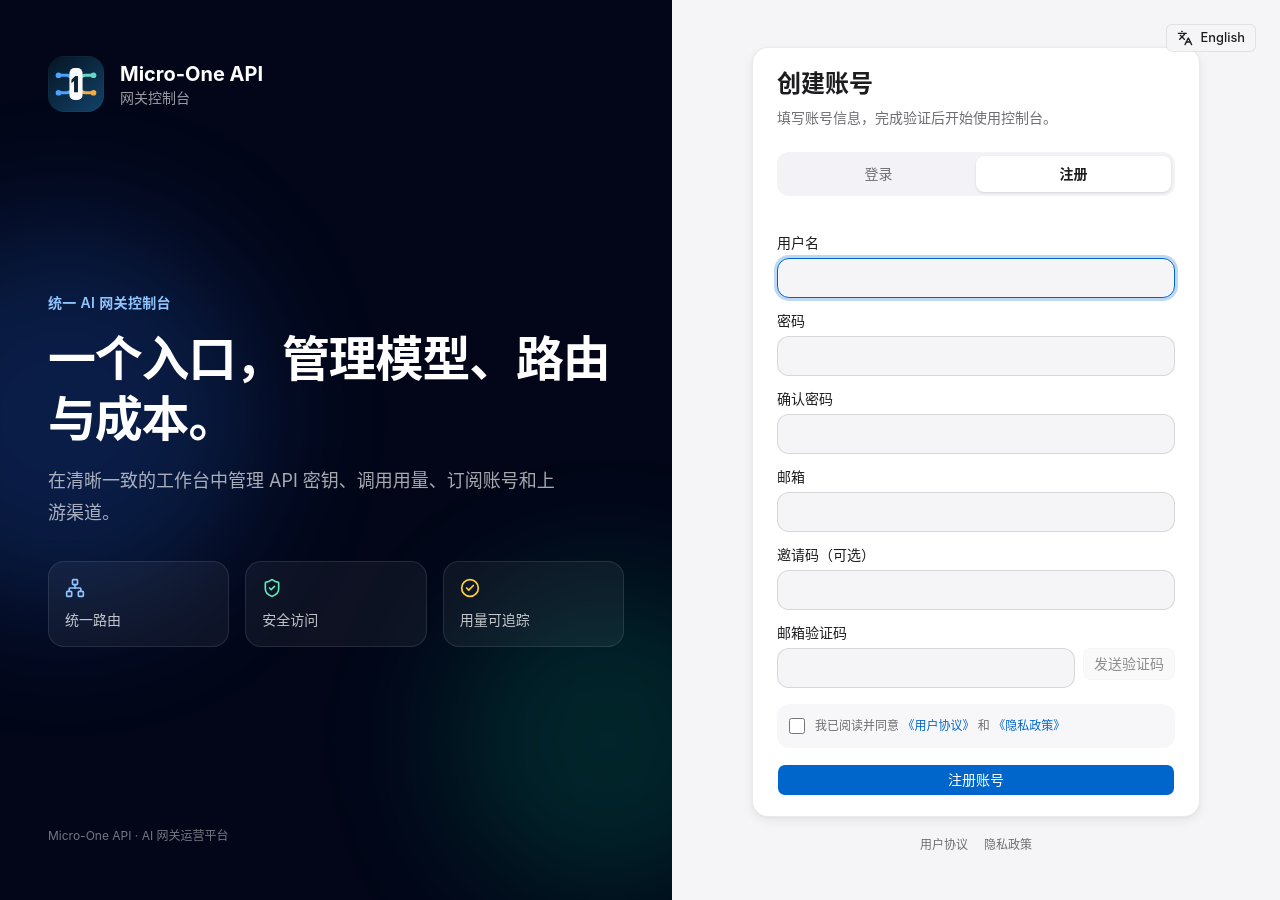
Scenario: LoginPage › does not claim delivery succeeded after an email failure
Type "alice@example.com" into the field labelled "邮箱".
click(976, 512); type("alice@example.com")  # box [777,492,1175,532]
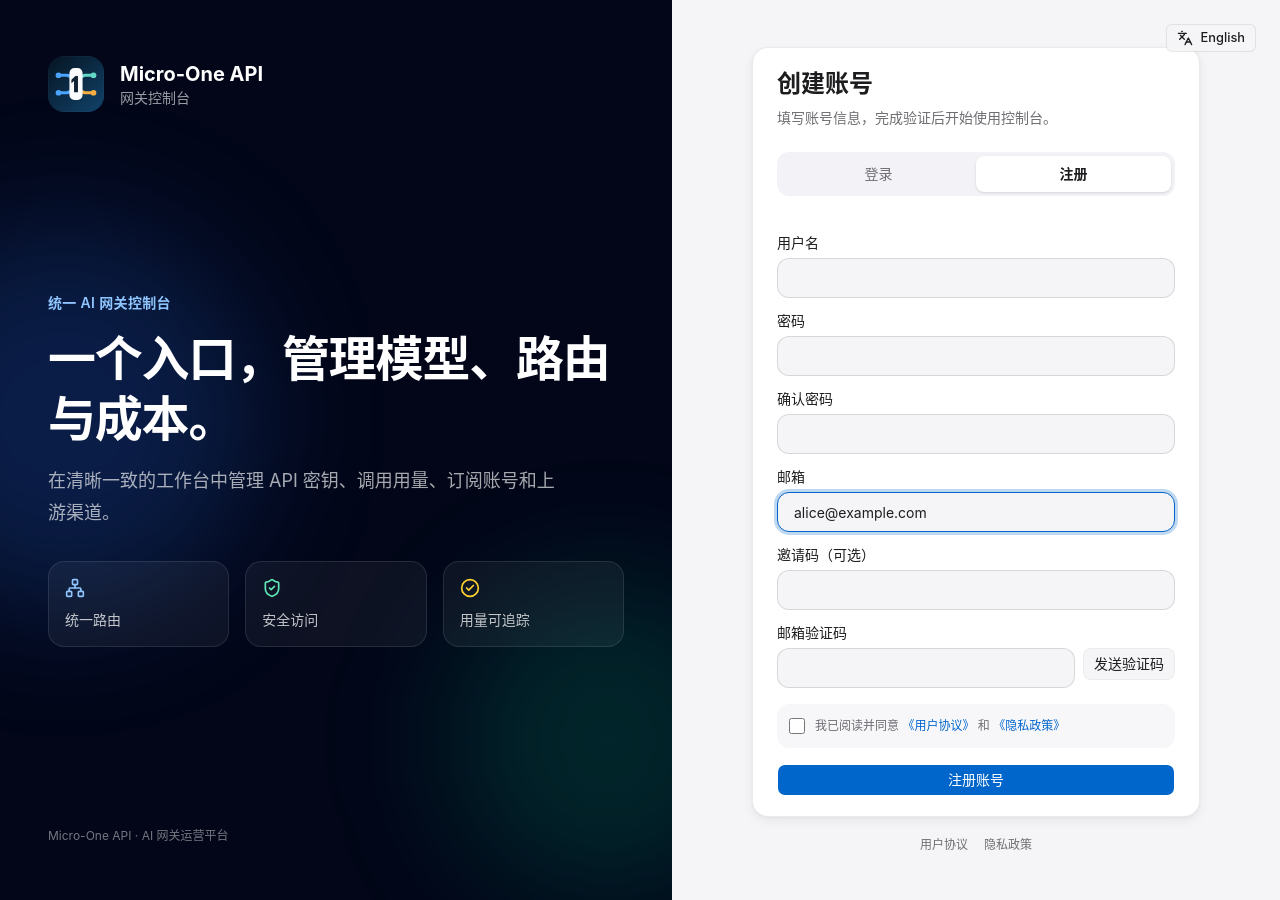
Click the button "发送验证码".
click(1129, 664)  # box [1083,648,1175,680]
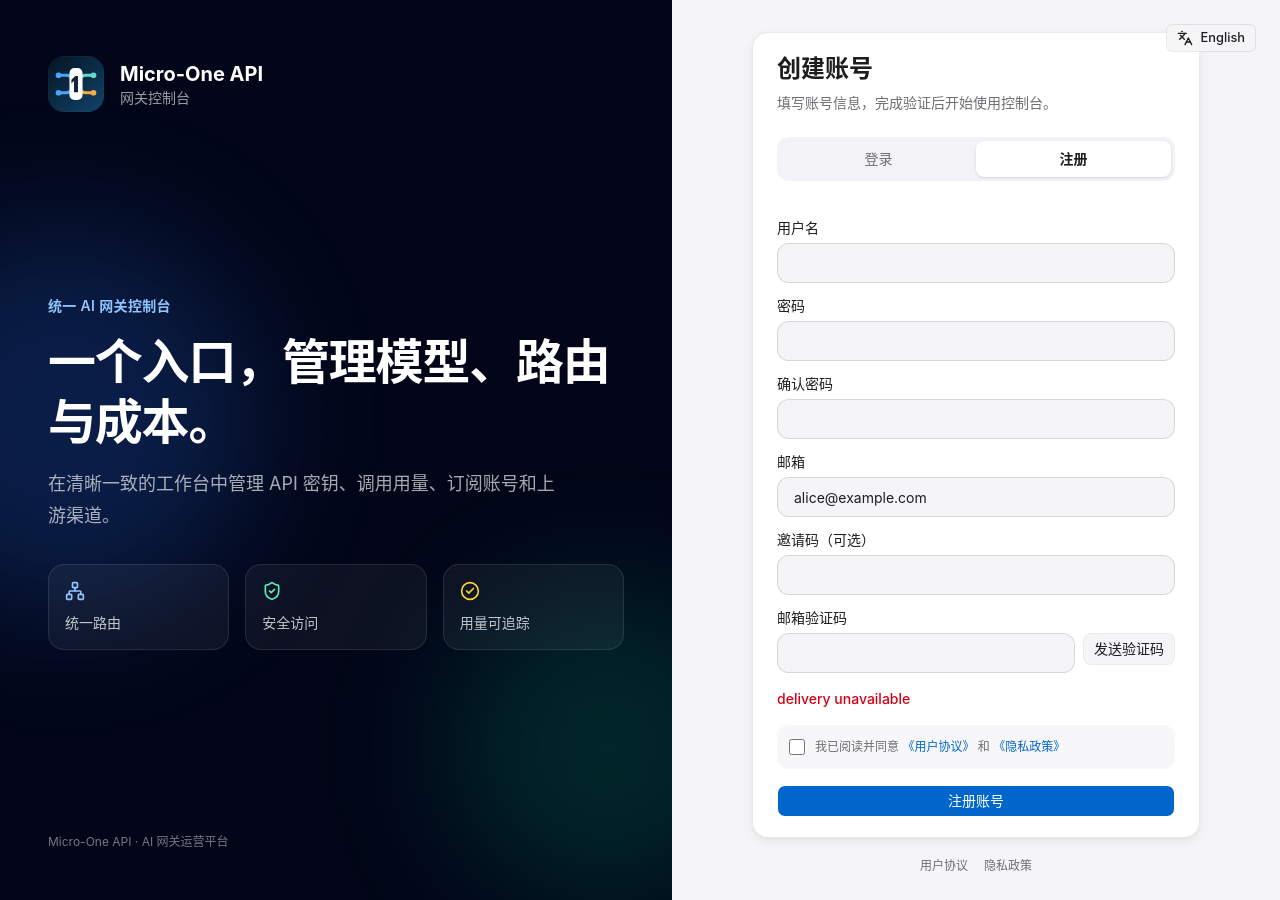
Result: the button "发送验证码" is enabled at [1083,633,1175,665]
Result: the message reads "delivery unavailable" at [777,690,910,707]
